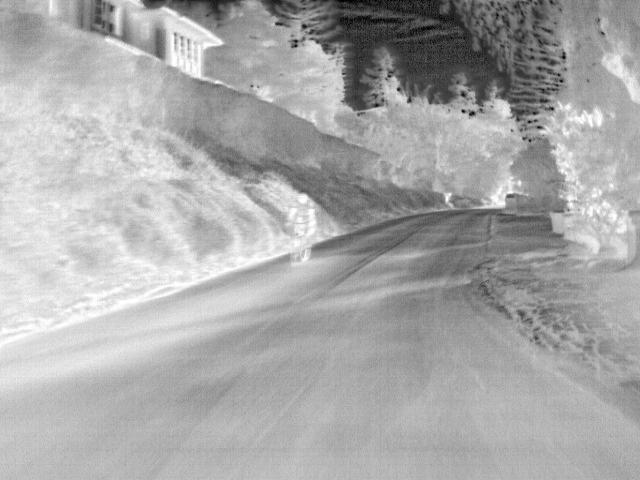person: (286, 190, 318, 229)
